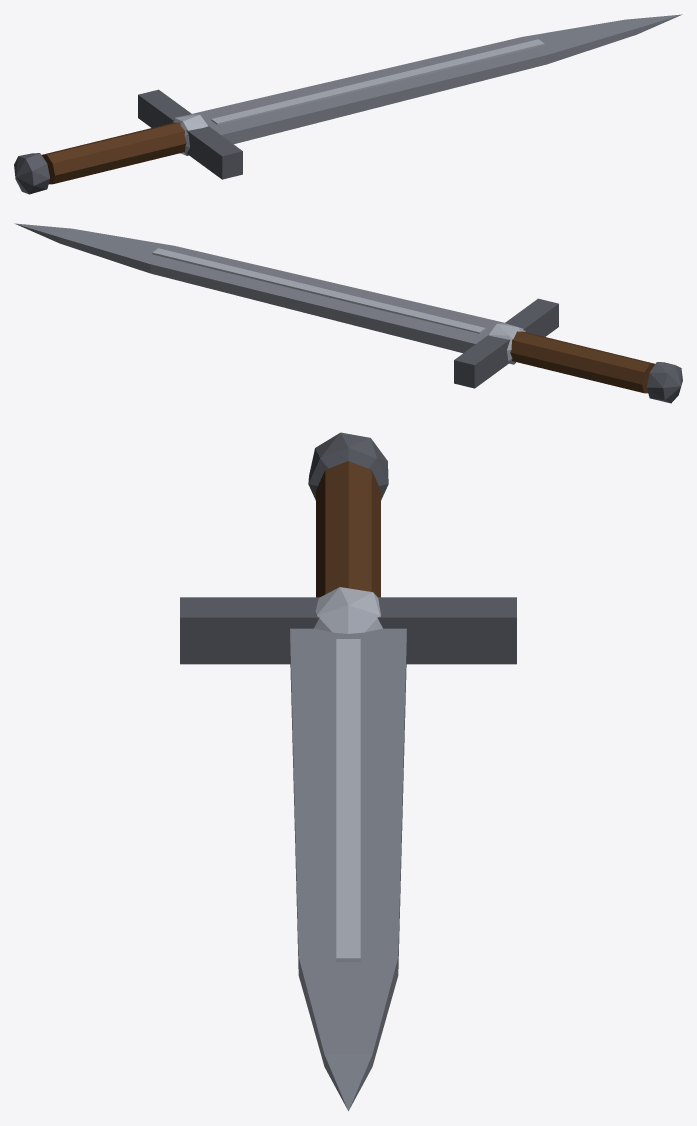
The model's file is drop_iron_sword.glb.
3 renders of one model, top to bottom at view 1: azimuth 30°, elevation 25°; view 2: azimuth 150°, elevation 25°; view 3: azimuth 270°, elevation 25°, orthographic. The views are drawn at different scales.
Parts seen in each view (by area): view 1: drop_iron_sword; view 2: drop_iron_sword; view 3: drop_iron_sword.
Part boxes in pixels (box(x1,y1,x2,y2)): drop_iron_sword: box(14, 14, 682, 194); drop_iron_sword: box(14, 223, 682, 403); drop_iron_sword: box(180, 432, 516, 1111).
Size of the model in its own units: 0.7176 by 0.0374 by 0.1568.
